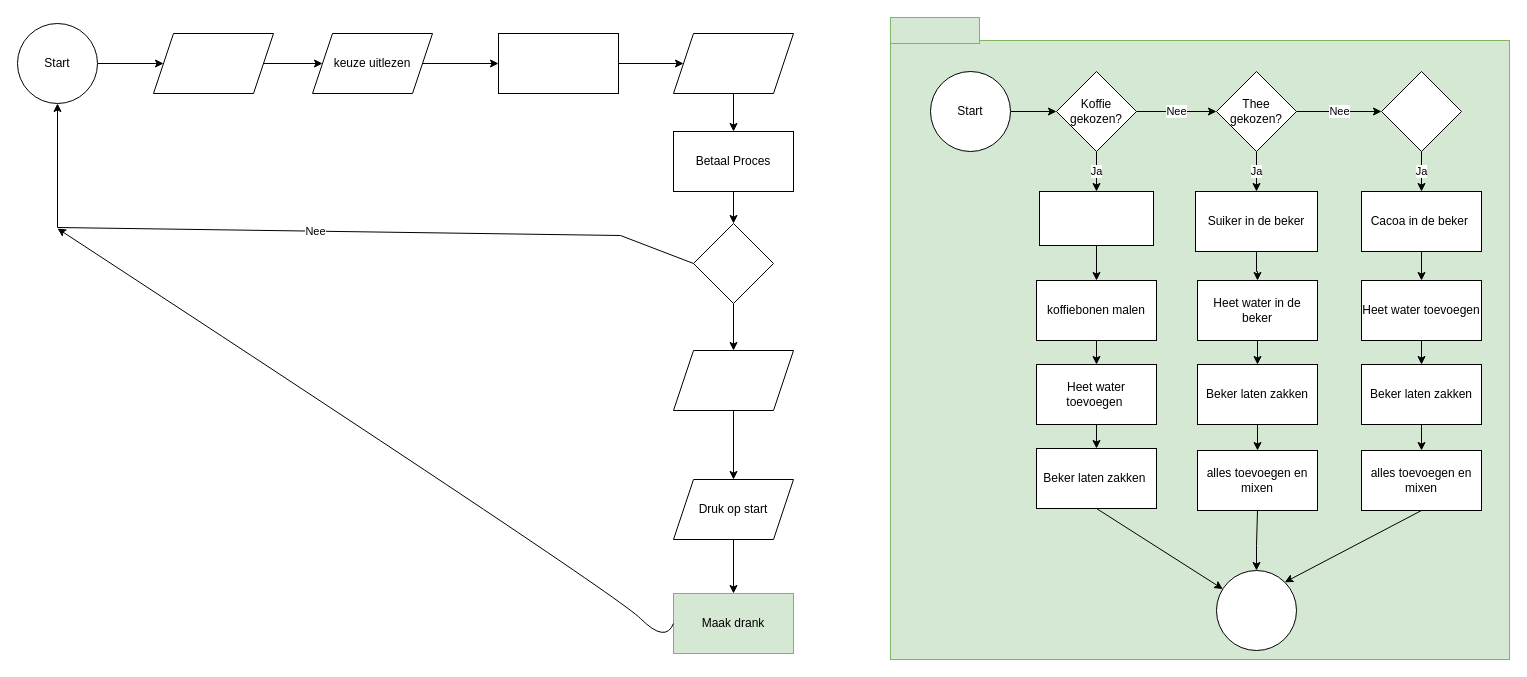
Some shapes in this 1527 by 677 pixel diagram are drawn without their labels. Here are the shapes that lost their labels. From the top down, the box of each, then its label:
(890, 16, 980, 44): Drank maken
(152, 32, 274, 94): Keuzes op scherm
(498, 32, 618, 94): Bedrag bepalen
(672, 32, 794, 94): Toon bedrag
(1380, 70, 1462, 152): Chocomelk gekozen?
(1038, 190, 1154, 246): Melk of suiker in de beker?
(692, 222, 774, 304): Betaling gelukt?
(672, 350, 794, 410): Zet beker neer
(1216, 570, 1296, 650): Stop
